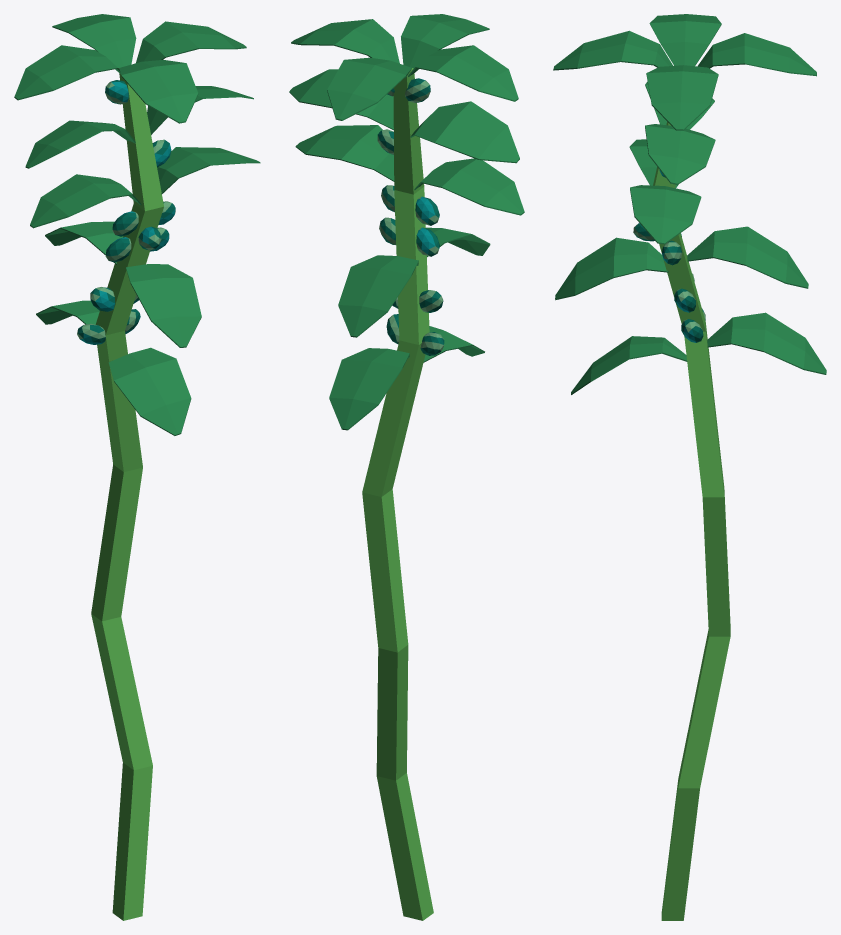
File: AJONJOLI GRANDE.fbx
The picture shows the model from 3 angles, left to right: view 1: azimuth 30°, elevation 25°; view 2: azimuth 150°, elevation 25°; view 3: azimuth 270°, elevation 25°; orthographic projection.
Visible parts, largest first — view 1: Cube, Cube.001, Icosphere; view 2: Cube, Cube.001, Icosphere; view 3: Cube, Cube.001, Icosphere.
Part boxes in pixels (<box>): Cube: <box>14,14,260,435</box>; Cube.001: <box>91,68,163,920</box>; Icosphere: <box>77,80,175,344</box>; Cube: <box>289,14,524,430</box>; Cube.001: <box>362,68,433,920</box>; Icosphere: <box>377,78,444,355</box>; Cube: <box>553,14,826,394</box>; Cube.001: <box>653,121,730,920</box>; Icosphere: <box>633,170,705,342</box>.
Bounding box in the file's own units: 112 × 403 × 114.
